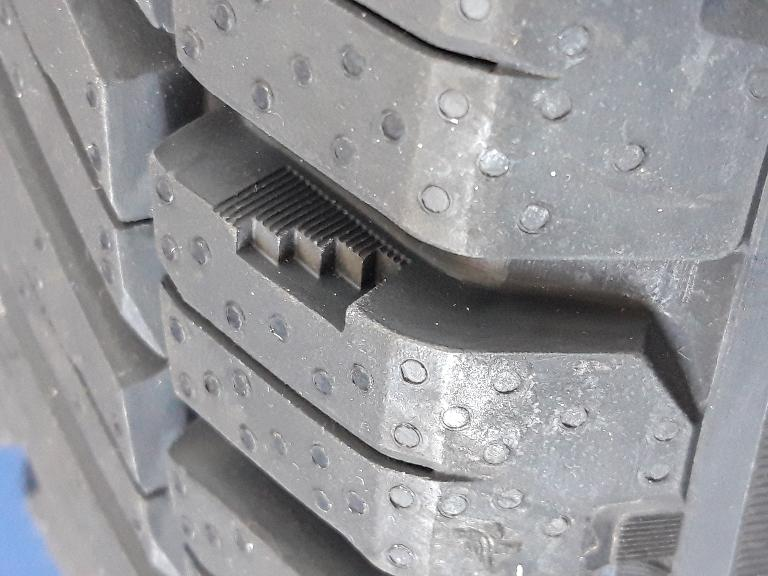temoin:100: (208, 158, 418, 341)
